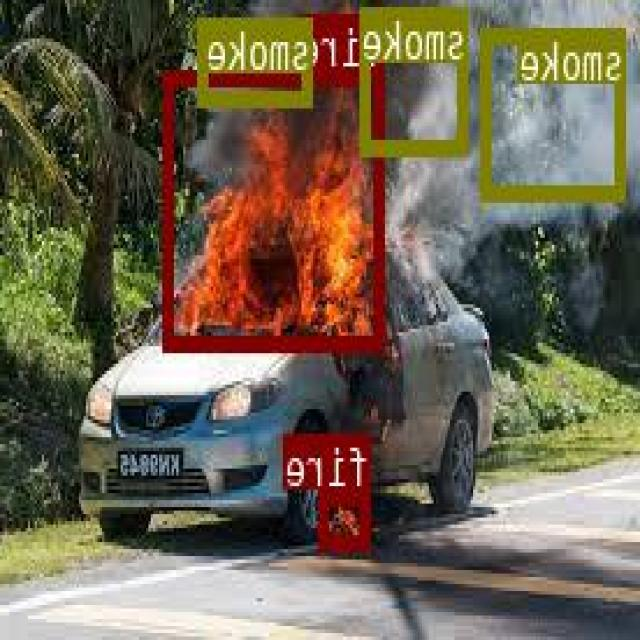fire: (165, 69, 386, 348), (322, 487, 372, 548)
smoke: (483, 25, 626, 197), (362, 5, 469, 151), (201, 15, 314, 103)
